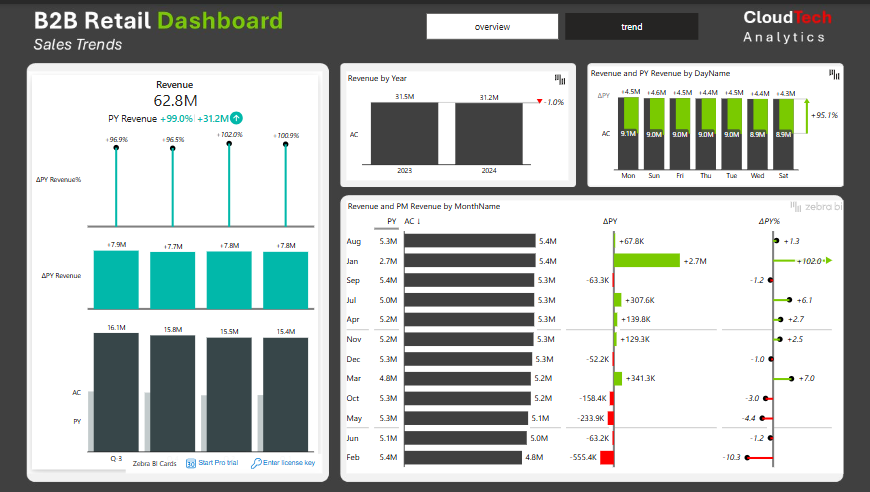

Layout of this report page (visuals, bound fields, positions):
{"tool":"powerbi","page":{"name":"trend","canvas":[1280,720],"ordinal":1},"visuals":[{"type":"ZebraBITablesBAE31B370F254F808553548EFB35BFA5","fields":{"Category":["Date Table.MonthName"],"Values":["dax calculations.Revenue"],"PreviousYear":["dax calculations.PM Revenue"]},"box":[505.5,283.6,739.1,410],"z":0},{"type":"zebraBiCards2C860CFAA9944091B75F0DBD117F20FA","fields":{"Values":["dax calculations.Revenue"],"Category":["Date Table.Quarter"],"PreviousYear":["dax calculations.PY Revenue"]},"box":[38.2,94,440.8,599.5],"z":1000},{"type":"waterfall6C9ED82ABD1F44C4A0D590CE01EB5EE7","fields":{"Category":["Date Table.Year"],"Values":["dax calculations.Revenue"]},"box":[505.5,94,336.5,169],"z":2000},{"type":"waterfall6C9ED82ABD1F44C4A0D590CE01EB5EE7","fields":{"Category":["Date Table.DayName"],"Values":["dax calculations.Revenue"],"PreviousYear":["dax calculations.PY Revenue"]},"box":[862.5,86.7,382,183.7],"z":3000},{"type":"pageNavigator","box":[627.1,13,400.7,39.1],"z":4000}]}

Visuals, with their boxes in screenshot pixels (x1, y1, x2, y2), scaled from the page's 1280x720 canvas onto the 870x492 screenshot:
ZebraBITablesBAE31B370F254F808553548EFB35BFA5 - Date Table.MonthName x dax calculations.Revenue: <bbox>344, 194, 846, 474</bbox>
zebraBiCards2C860CFAA9944091B75F0DBD117F20FA - dax calculations.Revenue x Date Table.Quarter: <bbox>26, 64, 326, 474</bbox>
waterfall6C9ED82ABD1F44C4A0D590CE01EB5EE7 - Date Table.Year x dax calculations.Revenue: <bbox>344, 64, 572, 180</bbox>
waterfall6C9ED82ABD1F44C4A0D590CE01EB5EE7 - Date Table.DayName x dax calculations.Revenue: <bbox>586, 59, 846, 185</bbox>
pageNavigator: <bbox>426, 9, 699, 36</bbox>
